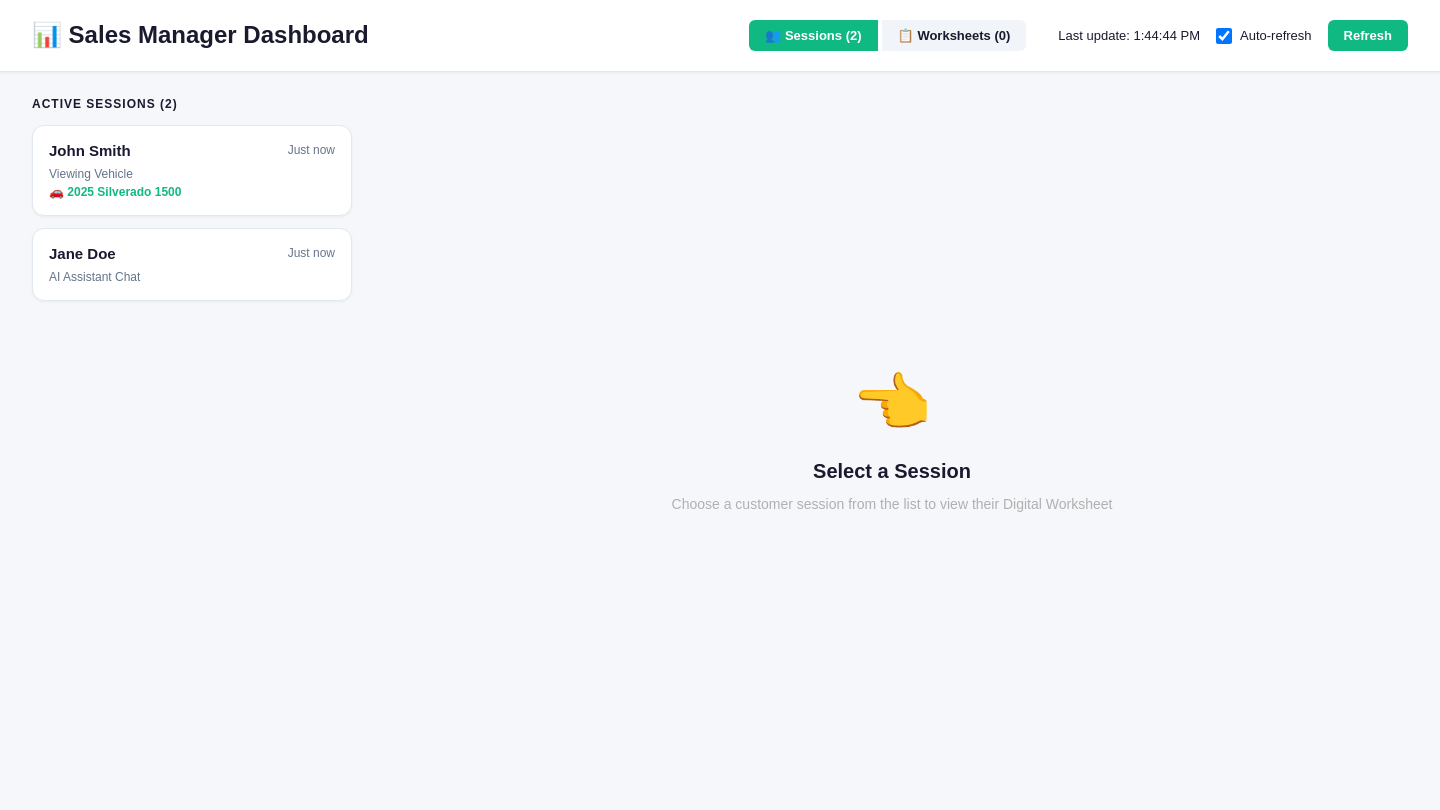
Test: SalesManagerDashboard Component › Back Button › displays Back button when session selected
Click the text "John Smith" at (90,150), box [49,142,131,159]
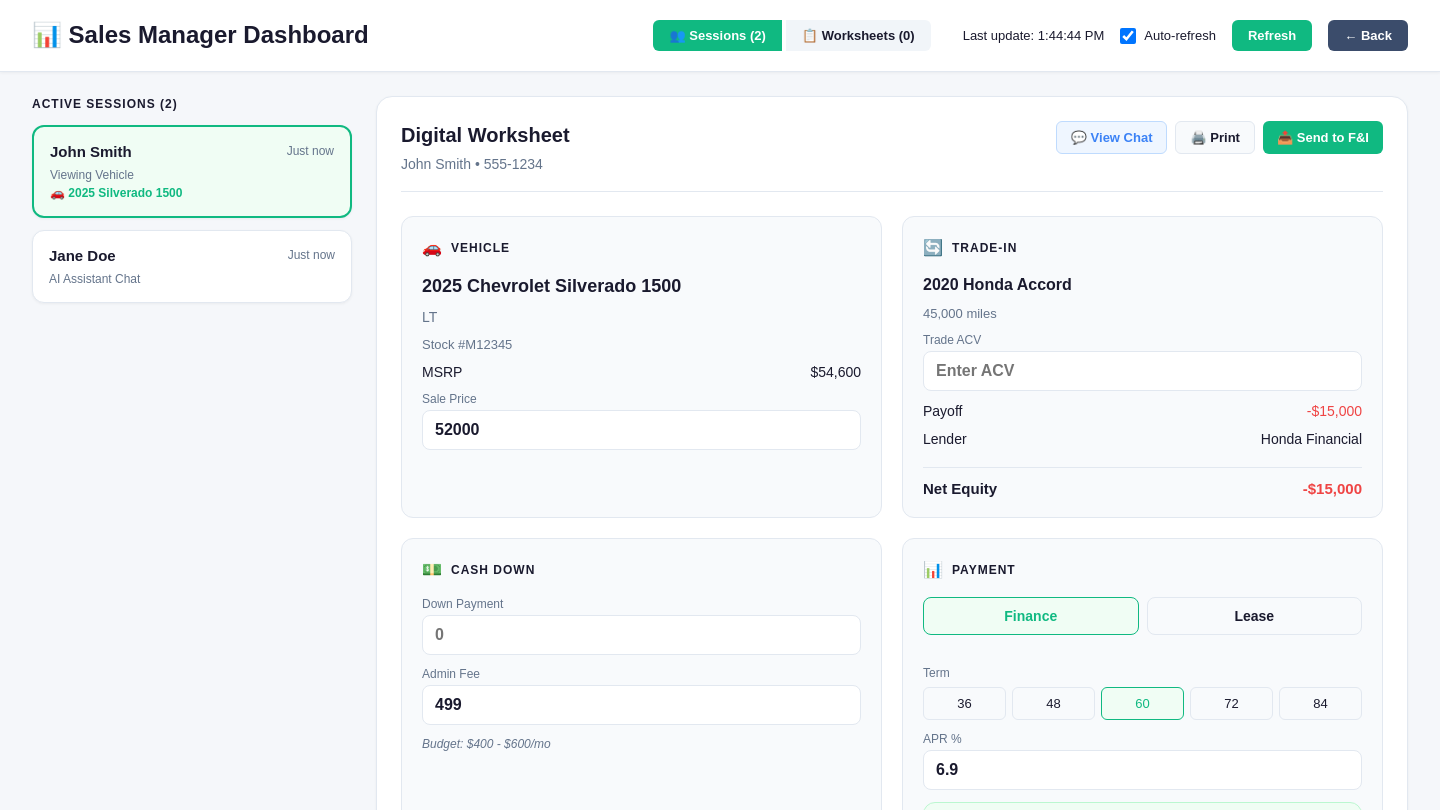
Result: the button "← Back" is shown at [1328,20,1408,51]
